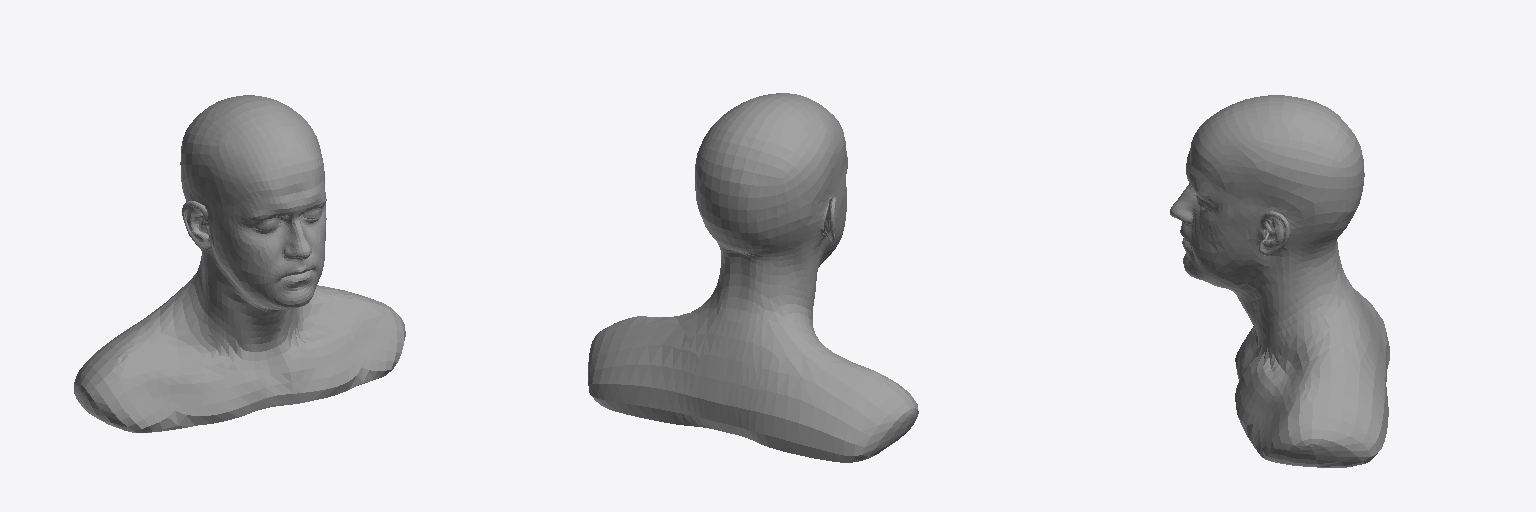
File: head.obj
The picture shows the model from 3 angles: view 1: azimuth 30°, elevation 25°; view 2: azimuth 150°, elevation 25°; view 3: azimuth 270°, elevation 25°; orthographic projection.
Parts seen in each view (by area): view 1: g0; view 2: g0; view 3: g0.
Boxes of the visible parts, x1=… form: g0: x1=74, y1=95, x2=405, y2=432; g0: x1=588, y1=93, x2=918, y2=462; g0: x1=1170, y1=95, x2=1389, y2=467.
Bounding box in the file's own units: 144 × 134 × 87.42.